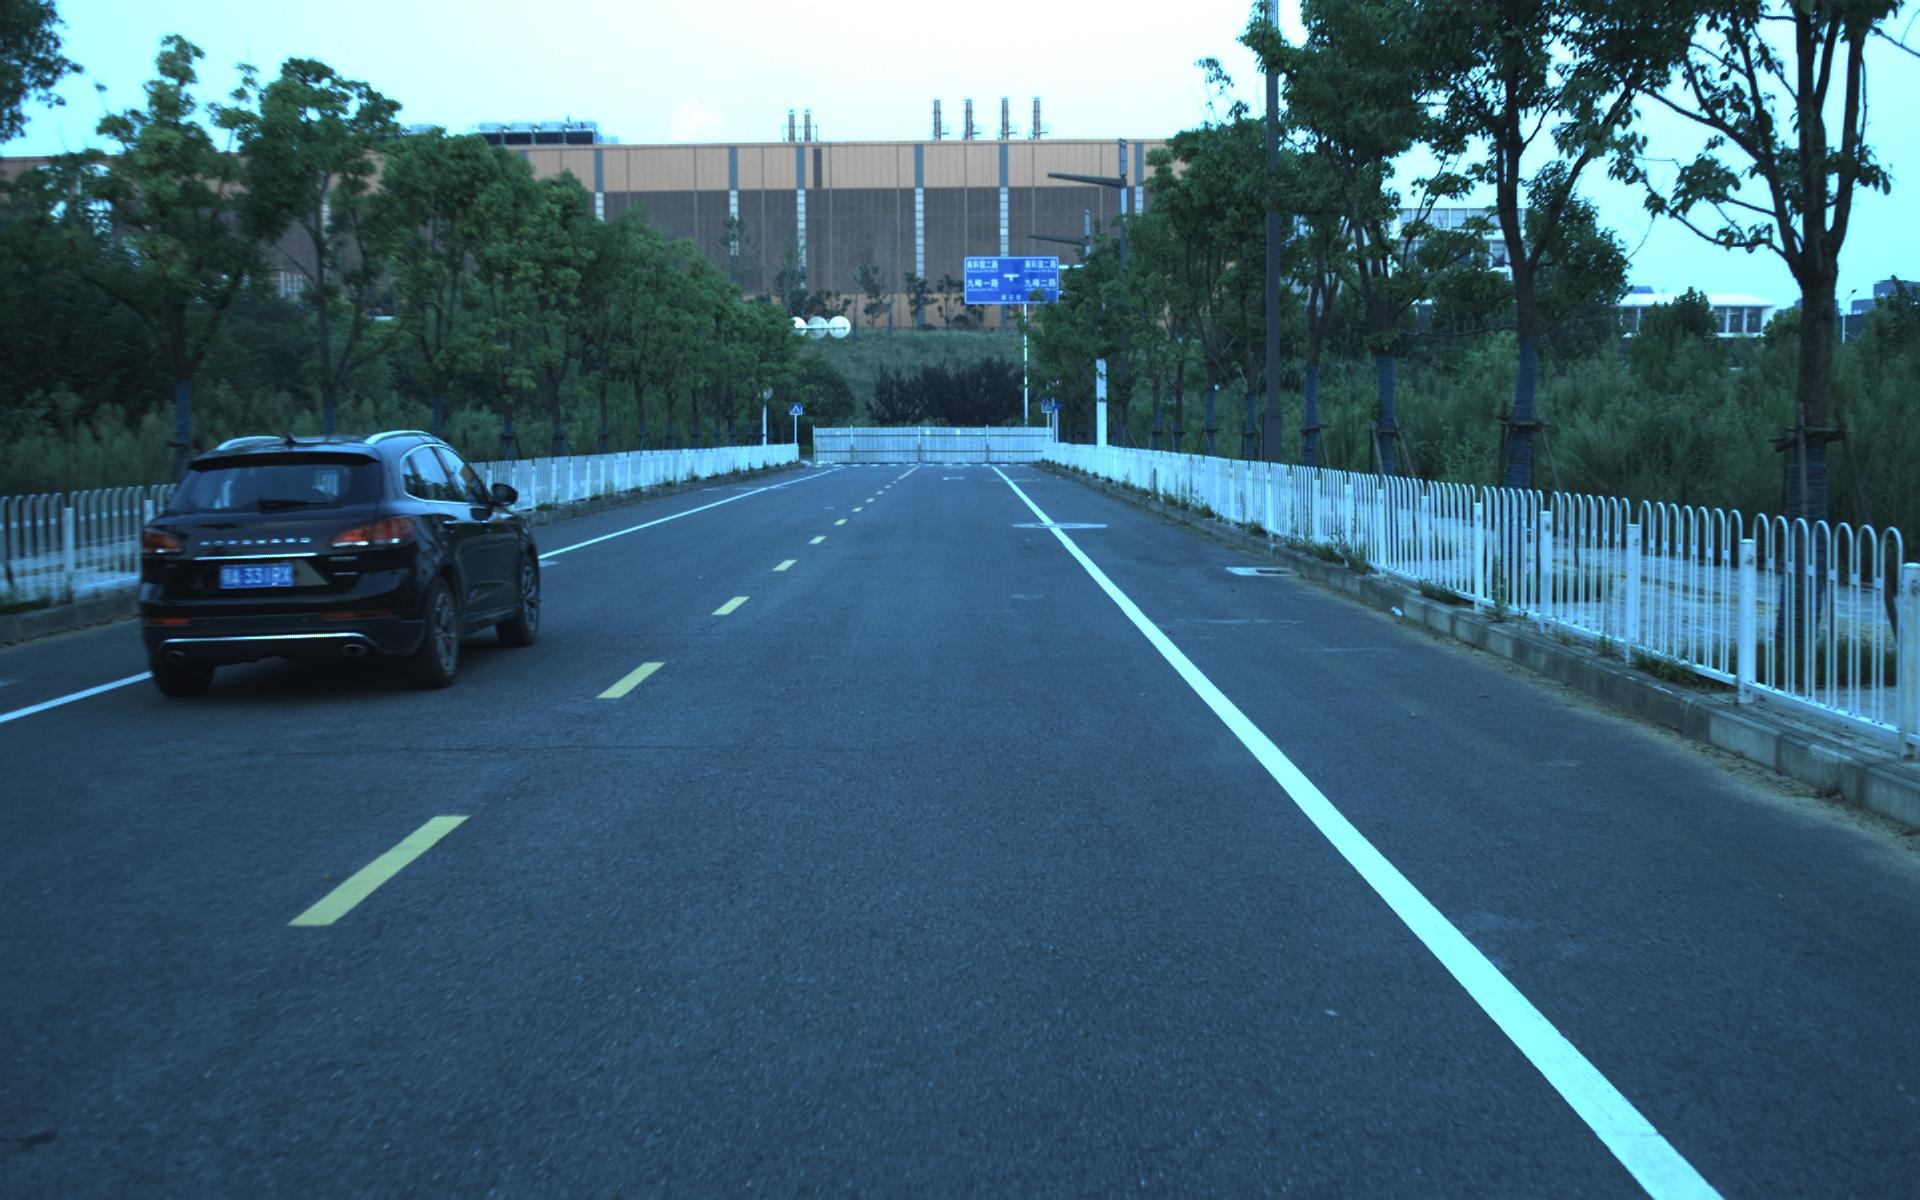Car: (117, 418, 547, 701)
